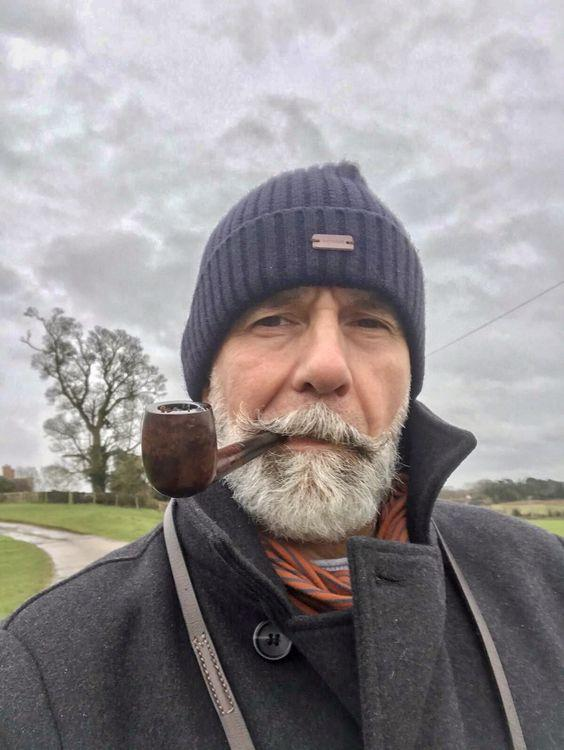trubka: (141, 402, 286, 498)
